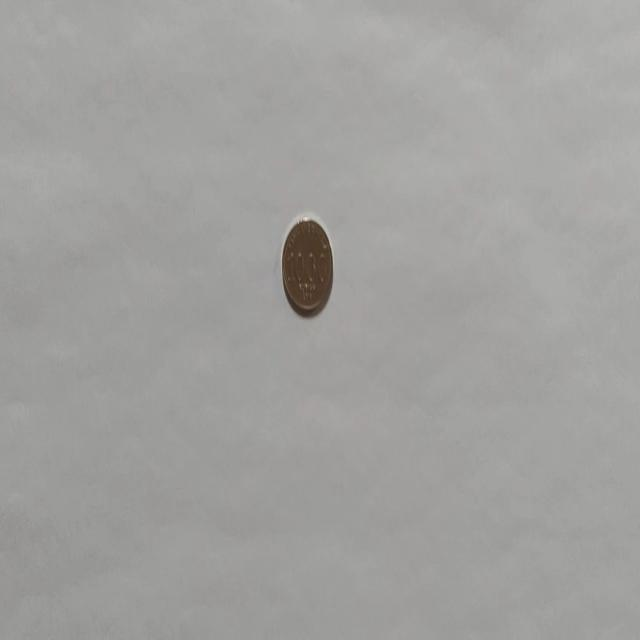seribu rupiah koin: (280, 214, 334, 318)
